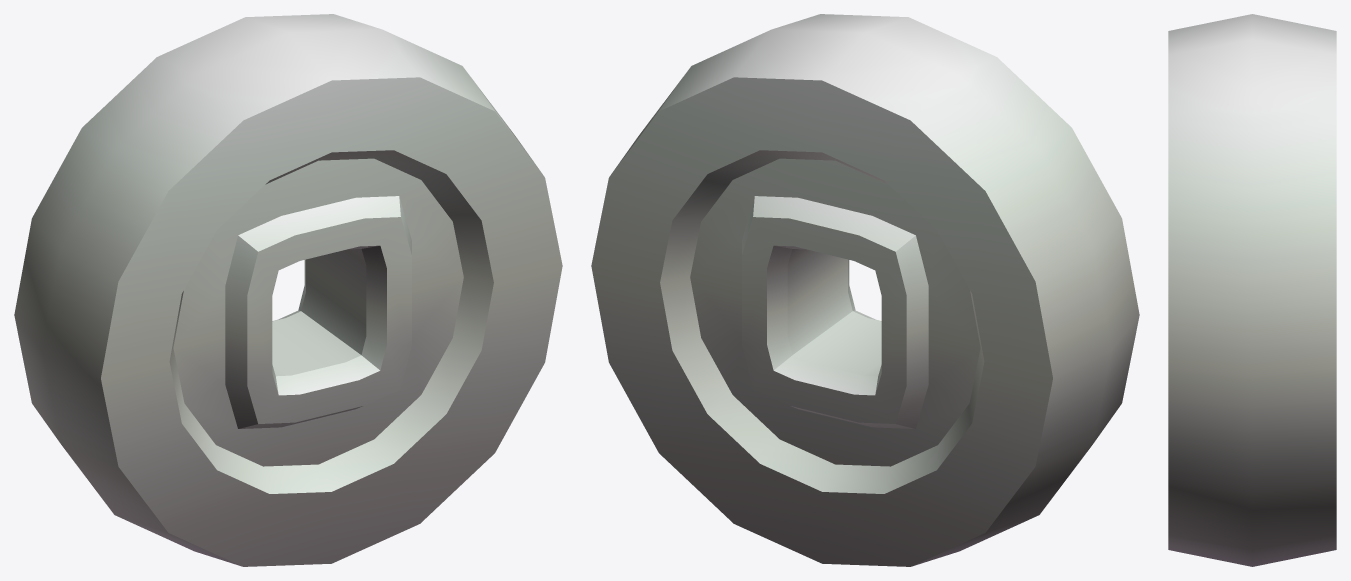
File: Silver_Hole_Coin_02.glb
The picture shows the model from 3 angles, left to right: view 1: azimuth 30°, elevation 25°; view 2: azimuth 150°, elevation 25°; view 3: azimuth 270°, elevation 25°; orthographic projection. The views are drawn at different scales.
Parts seen in each view (by area): view 1: Silver_Hole_Coin_02; view 2: Silver_Hole_Coin_02; view 3: Silver_Hole_Coin_02.
Part boxes in pixels (x1,y1,x2,y2): Silver_Hole_Coin_02: (14,14,562,566); Silver_Hole_Coin_02: (591,14,1139,566); Silver_Hole_Coin_02: (1168,14,1336,566).
Size of the model in its own units: 0.3654 by 0.3654 by 0.1113.
Materials: 1 (1 with a texture image).
